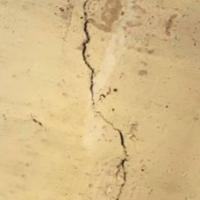crack: (58, 1, 148, 194)
